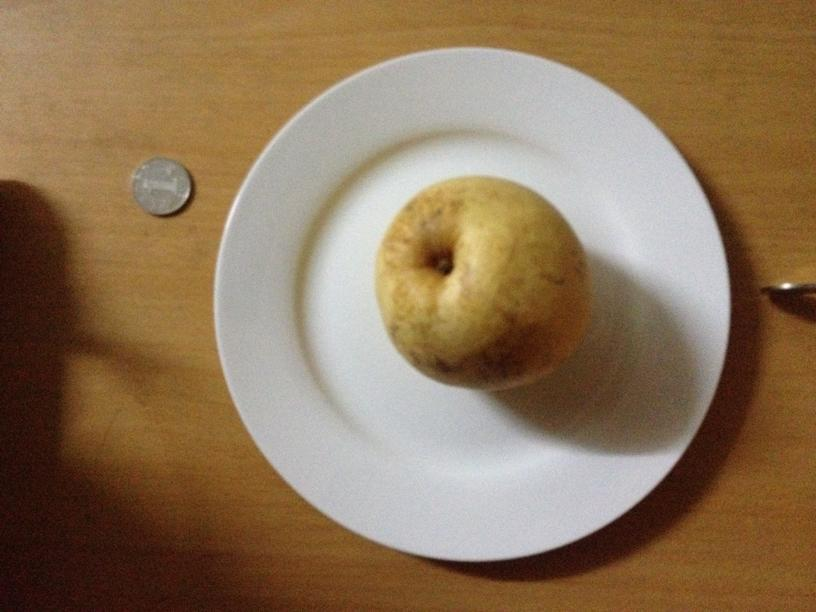coin: (126, 155, 192, 219)
pear: (372, 176, 590, 393)
